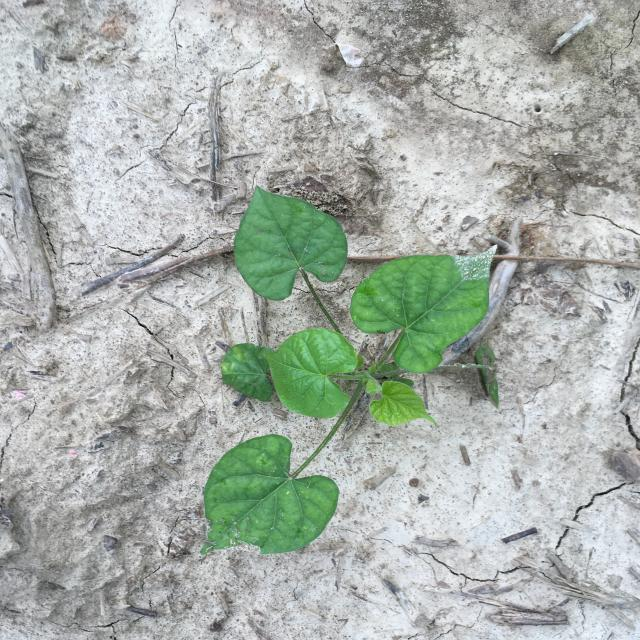MorningGlory: (199, 185, 500, 556)
